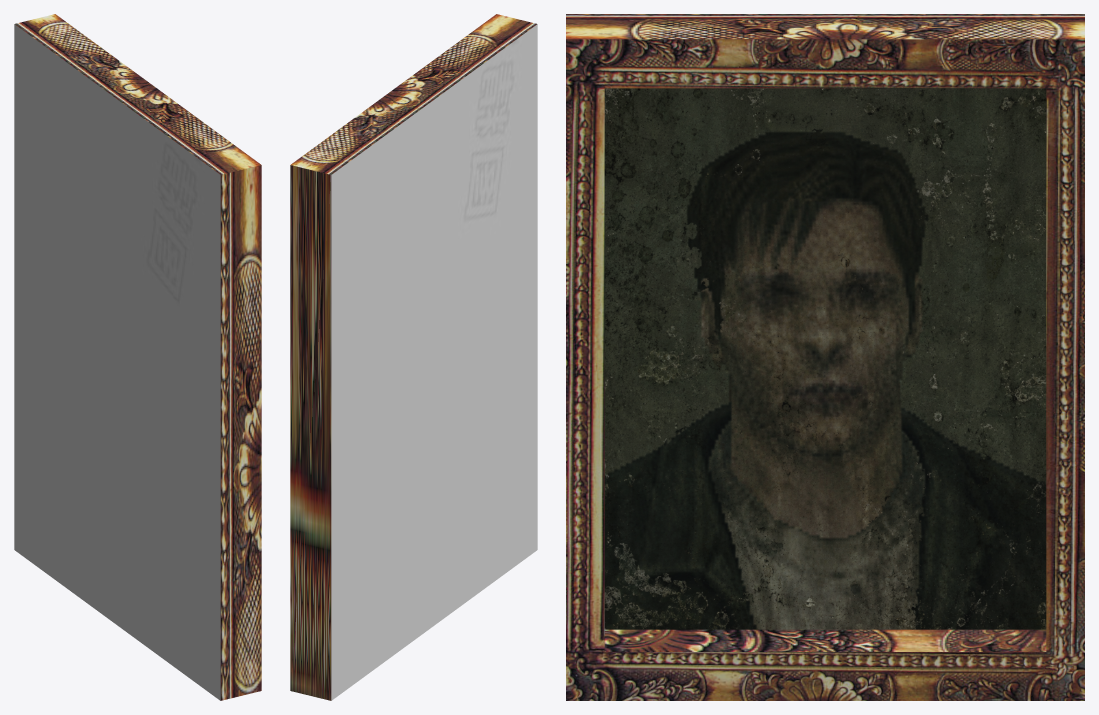
The model's file is paint.fbx.
3 renders of one model, left to right at view 1: azimuth 30°, elevation 25°; view 2: azimuth 150°, elevation 25°; view 3: azimuth 270°, elevation 25°, orthographic. The views are drawn at different scales.
Parts seen in each view (by area): view 1: paint; view 2: paint; view 3: paint.
Part boxes in pixels (x1,y1,x2,y2): paint: (14, 14, 261, 700); paint: (290, 14, 537, 700); paint: (566, 14, 1084, 700).
Bounding box in the file's own units: 16.14 × 198 × 140.
2 materials, 2 textured.
